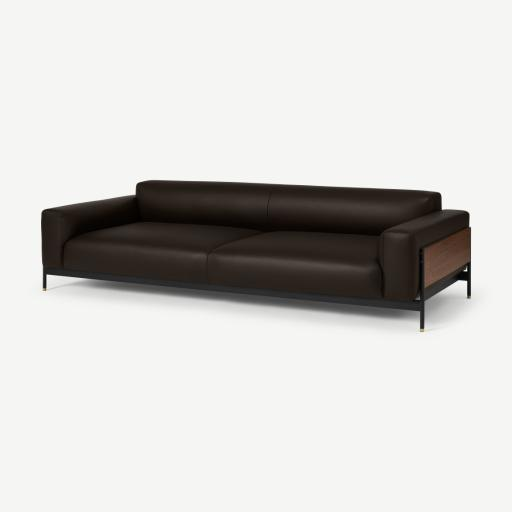back_cushion: (136, 181, 440, 235)
left_arm: (378, 210, 468, 299)
legs: (414, 289, 427, 331), (454, 263, 471, 294), (428, 281, 453, 296), (43, 270, 47, 290)
right_arm: (42, 195, 138, 268)
seat_cushion: (63, 222, 383, 298)
two-seater: (0, 0, 511, 512)
